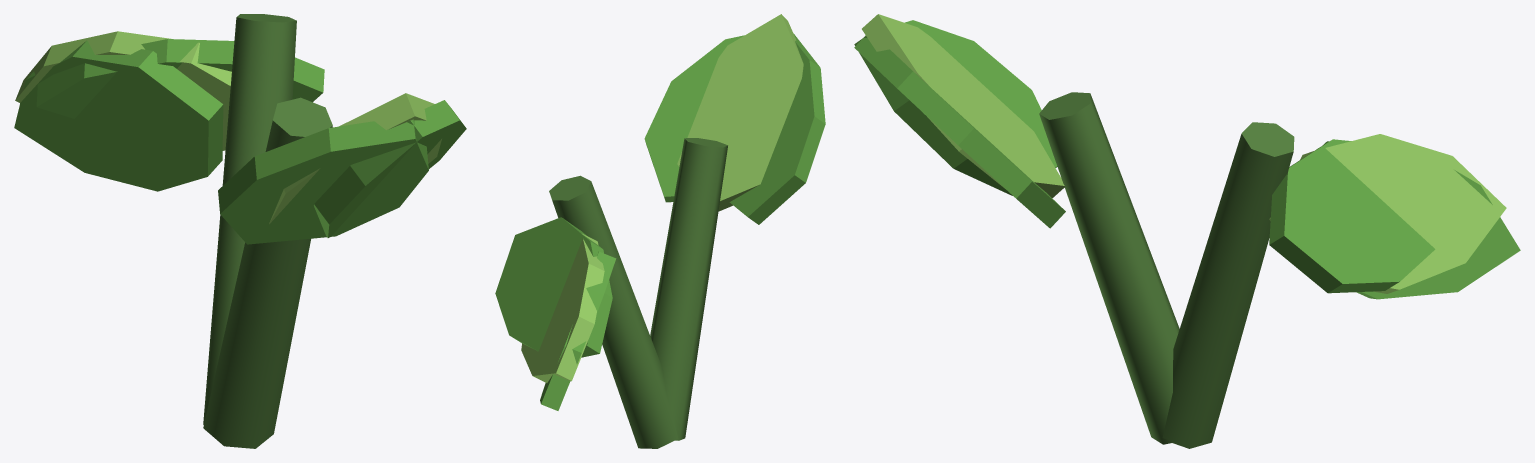
Rendered from strawberry-sprout.glb.
3 views of the same model, side by side, from view 1: azimuth 30°, elevation 25°; view 2: azimuth 150°, elevation 25°; view 3: azimuth 270°, elevation 25° (orthographic). The views are drawn at different scales.
Parts seen in each view (by area): view 1: strawberry_sprout_leaf, strawberry_sprout_stem, strawberry_sprout_leafLight; view 2: strawberry_sprout_stem, strawberry_sprout_leaf, strawberry_sprout_leafLight; view 3: strawberry_sprout_stem, strawberry_sprout_leaf, strawberry_sprout_leafLight.
Part boxes in pixels (<box>): strawberry_sprout_leaf: <box>14,39,466,244</box>; strawberry_sprout_stem: <box>203,14,332,448</box>; strawberry_sprout_leafLight: <box>15,31,441,224</box>; strawberry_sprout_stem: <box>549,138,727,448</box>; strawberry_sprout_leaf: <box>495,34,825,410</box>; strawberry_sprout_leafLight: <box>521,14,803,382</box>; strawberry_sprout_stem: <box>1039,92,1294,448</box>; strawberry_sprout_leaf: <box>854,20,1520,299</box>; strawberry_sprout_leafLight: <box>862,14,1506,293</box>.
Size of the model in its own units: 0.0791 by 0.1398 by 0.1995.
